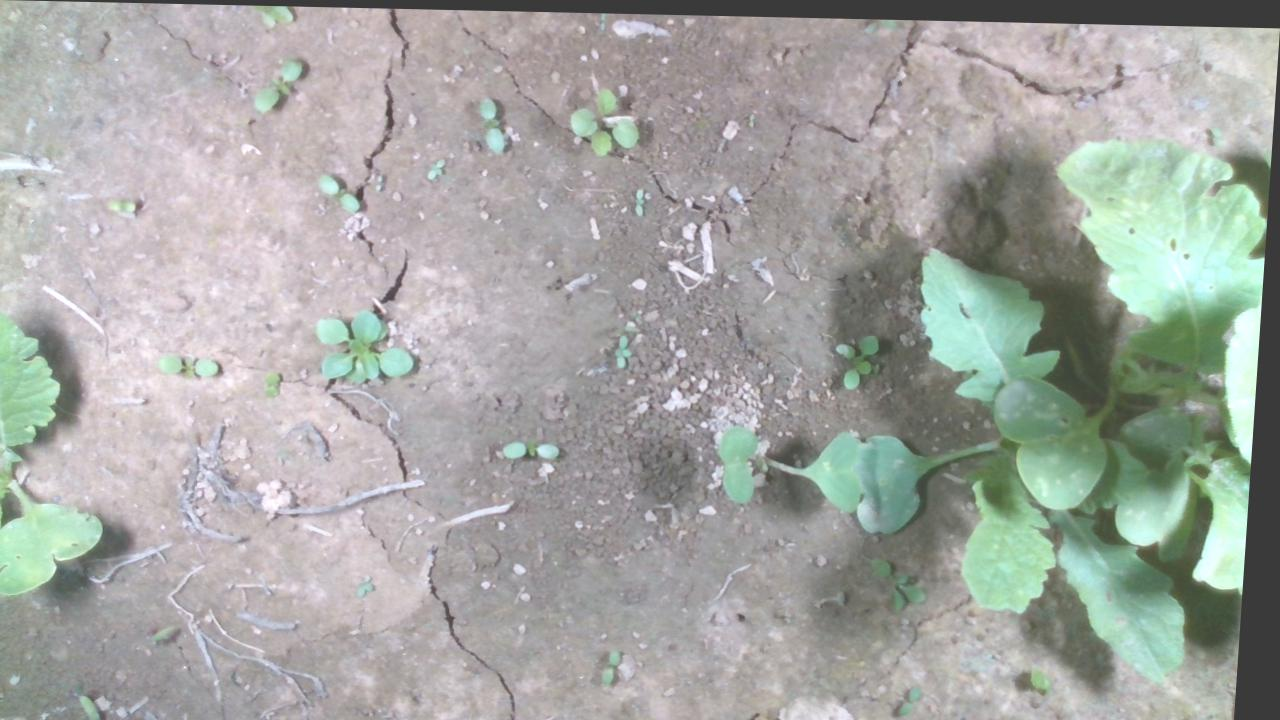weed: (566, 81, 645, 153), (252, 54, 306, 113), (835, 328, 884, 385), (476, 92, 510, 152), (316, 171, 363, 209), (159, 352, 226, 377), (503, 437, 566, 456), (613, 328, 637, 367), (265, 368, 286, 397), (426, 155, 447, 179), (108, 196, 140, 211)
